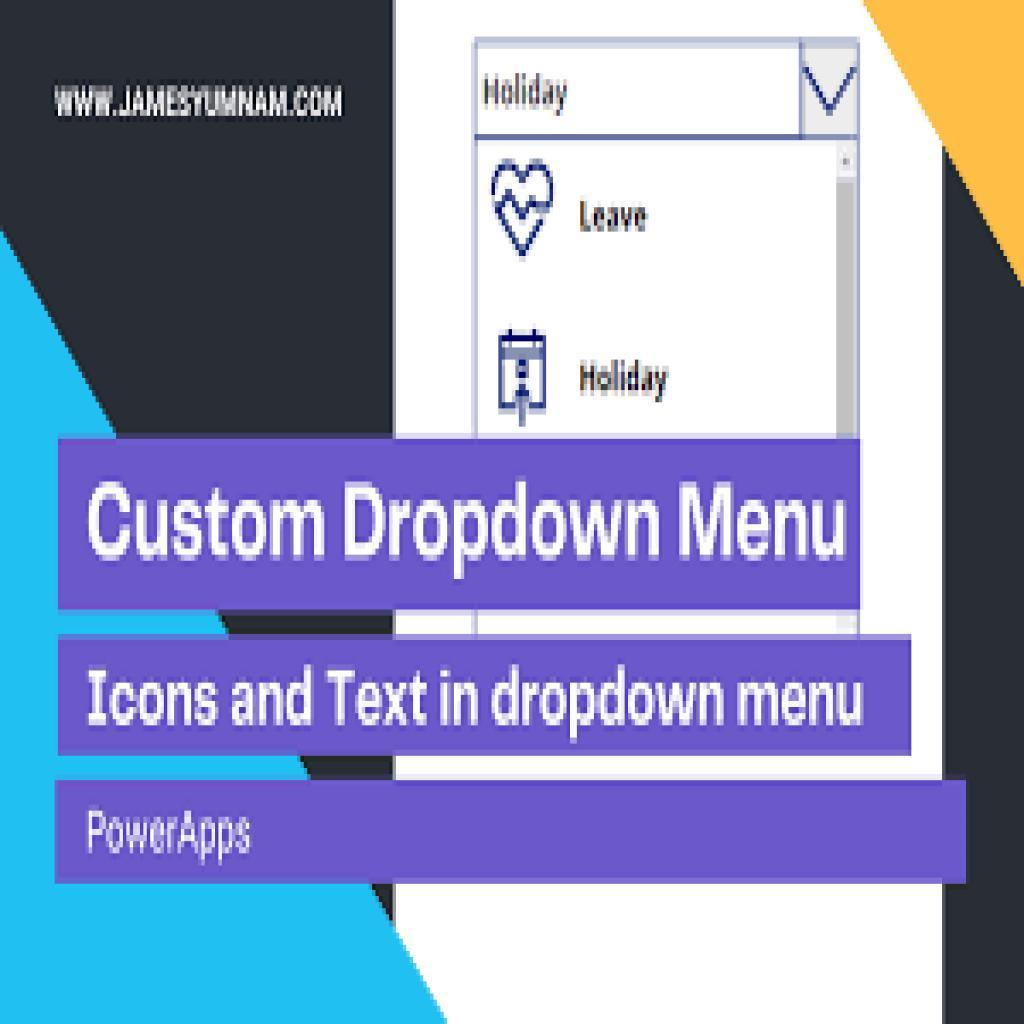dropdown: (477, 38, 861, 138)
icon: (486, 154, 562, 260), (491, 324, 562, 424)
